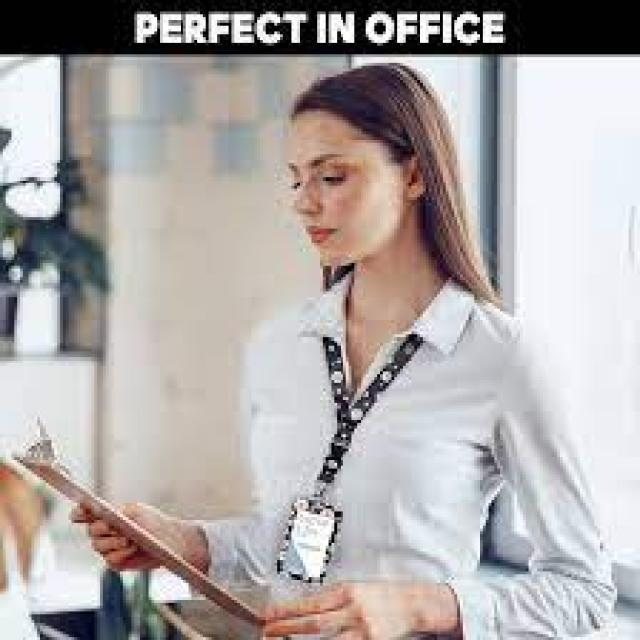id_card: (268, 325, 430, 579)
